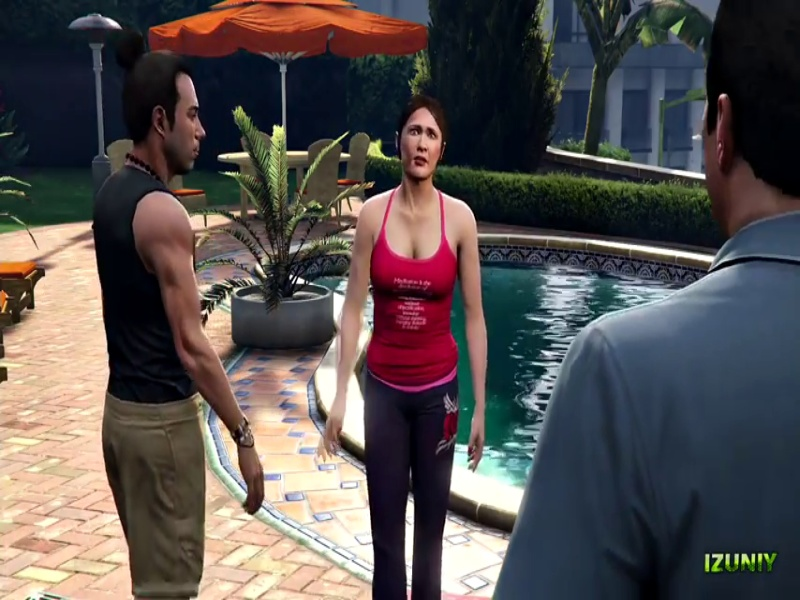human: (345, 104, 491, 599)
